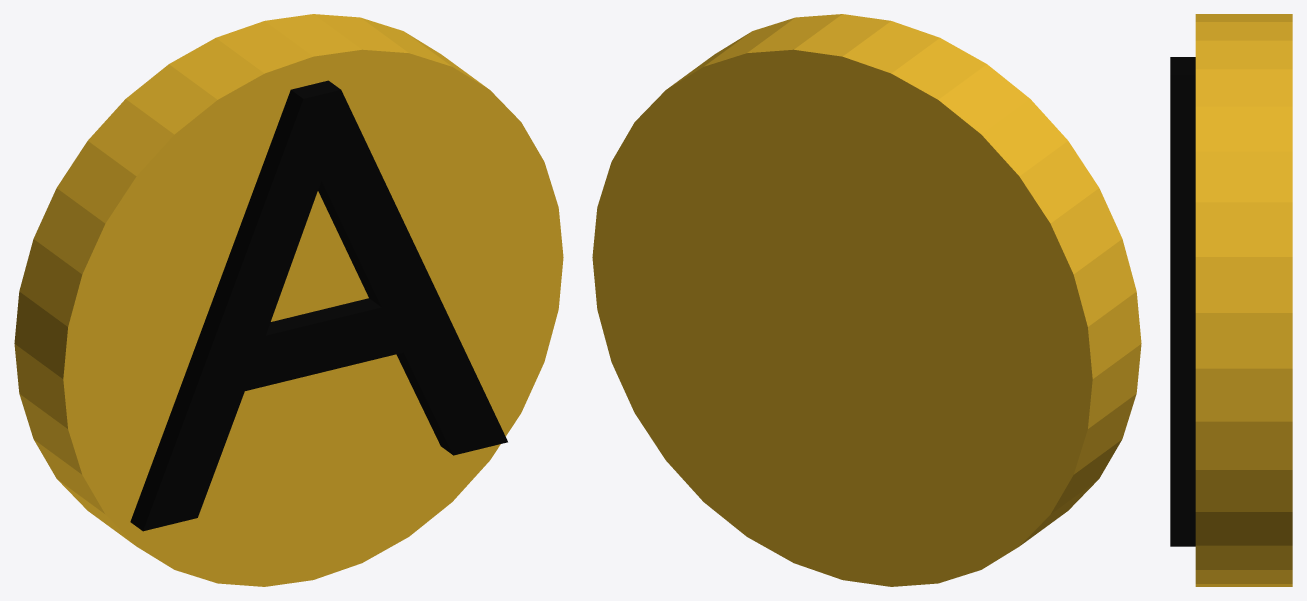
The model's file is timesupA.fbx.
3 views of the same model, side by side, from view 1: azimuth 30°, elevation 25°; view 2: azimuth 150°, elevation 25°; view 3: azimuth 270°, elevation 25° (orthographic).
Parts seen in each view (by area): view 1: A; view 2: A; view 3: A.
Boxes of the visible parts, box(x1,y1,x2,y2) form: A: box(14, 14, 563, 586); A: box(592, 14, 1141, 586); A: box(1170, 14, 1292, 586).
Size of the model in its own units: 20 by 20 by 4.26.
